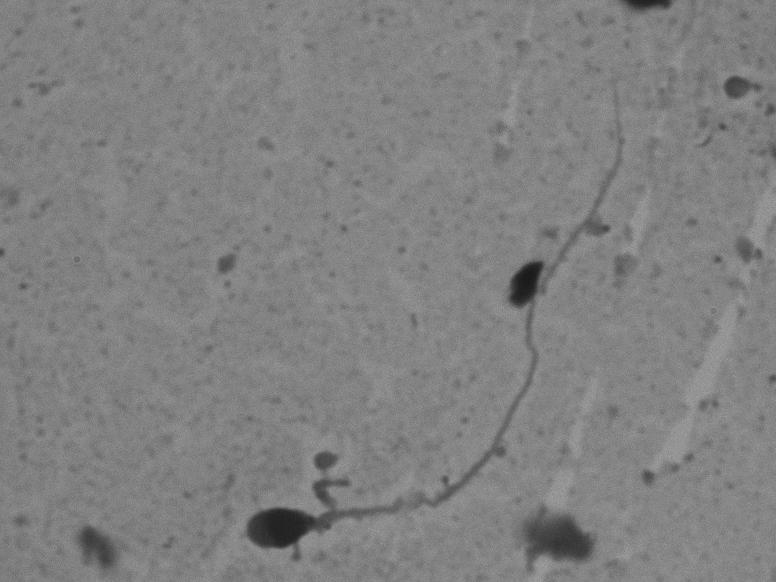Abnormal: (225, 55, 632, 564)
